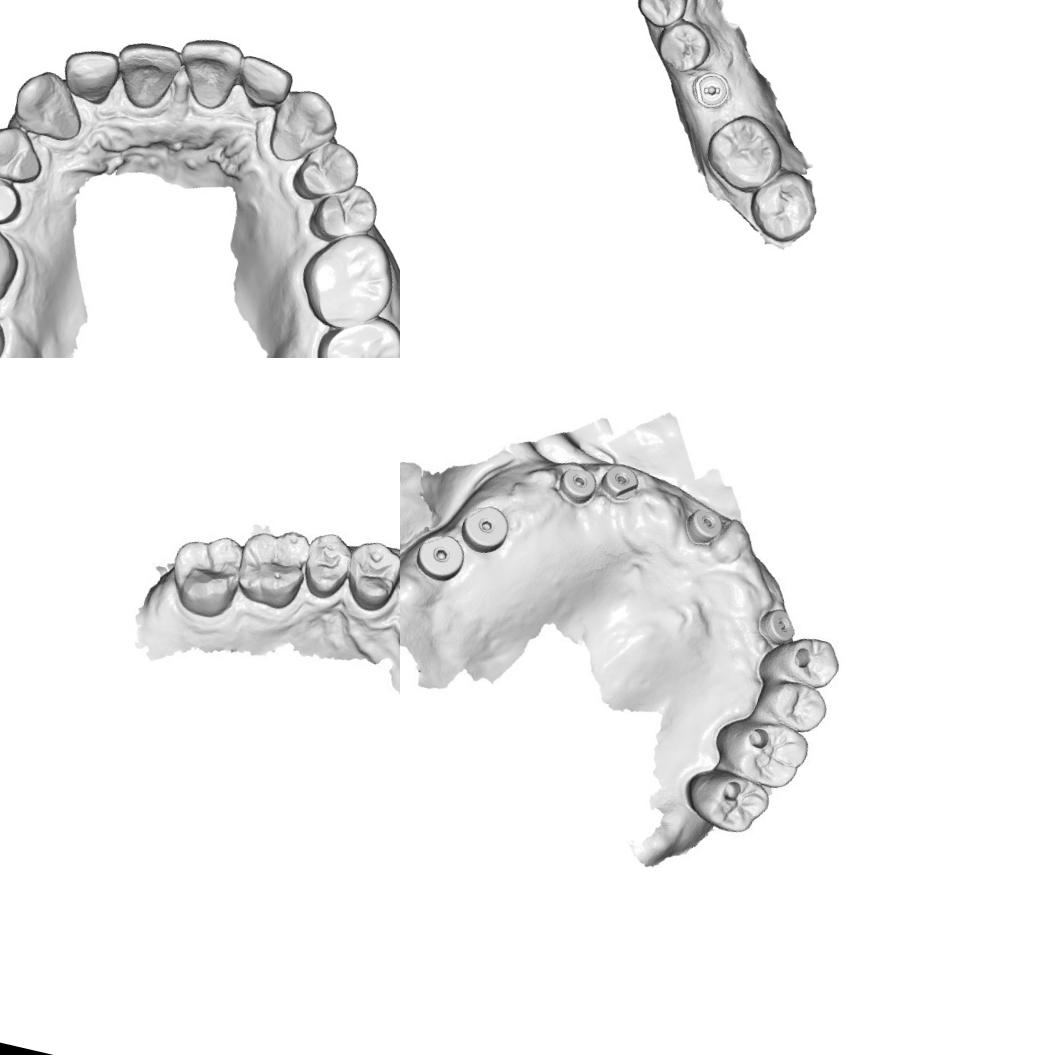canine: (2, 63, 95, 148), (263, 80, 346, 173)
implant: (411, 527, 469, 587), (456, 500, 514, 557), (550, 460, 600, 511), (596, 458, 644, 507), (756, 599, 799, 648), (682, 504, 727, 549)
implant_minus: (686, 66, 737, 116)
incisor: (168, 28, 249, 116), (107, 33, 184, 117), (55, 42, 128, 110), (229, 50, 298, 118)
molar: (289, 219, 400, 339), (698, 105, 792, 200), (162, 526, 250, 624), (229, 518, 315, 613), (740, 159, 826, 251), (682, 766, 772, 842), (717, 717, 810, 786), (304, 303, 400, 358), (0, 209, 28, 314)
premolar: (288, 132, 366, 212), (304, 174, 382, 250), (294, 524, 360, 606), (338, 535, 400, 618), (649, 13, 720, 81), (770, 631, 842, 693), (755, 678, 834, 734), (0, 120, 50, 191), (629, 0, 694, 34), (0, 159, 28, 231)
